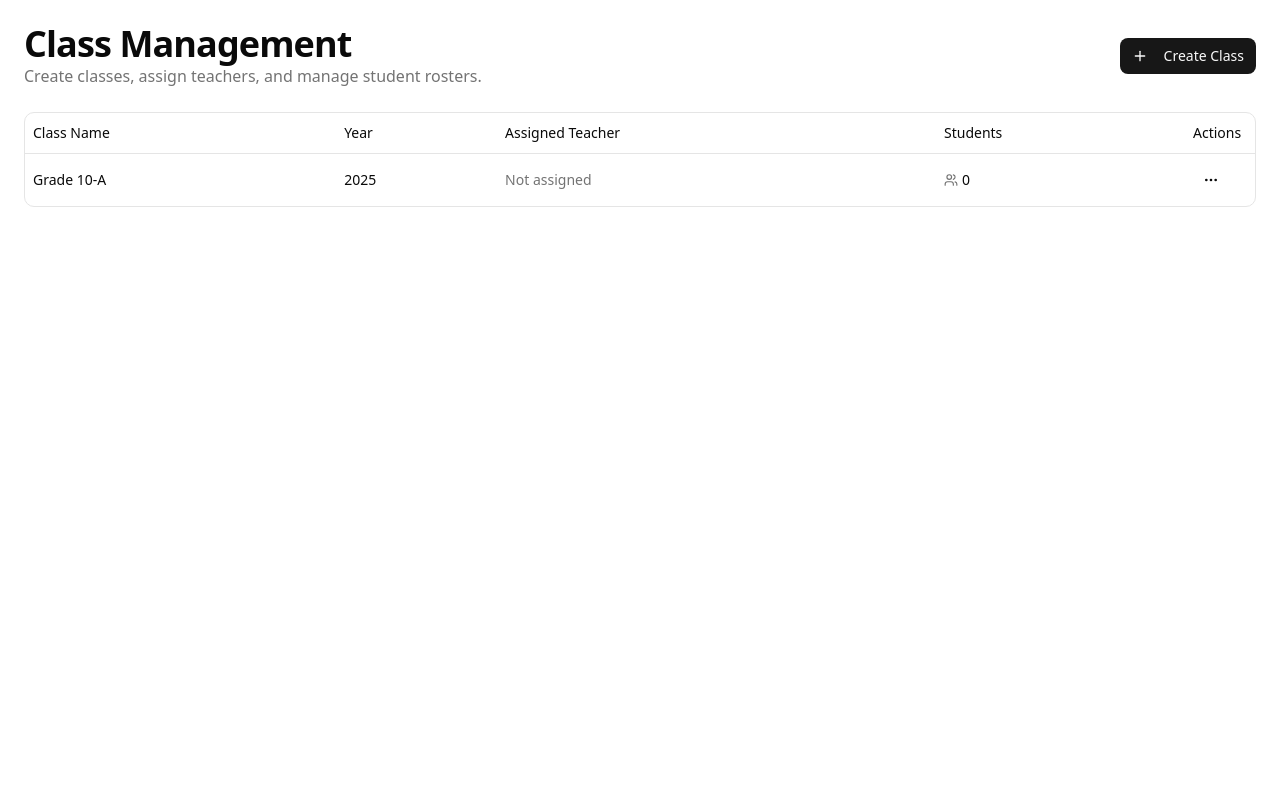
Subject Teachers modal — assignments fetch fails › shows an inline error message instead of the empty state
The image size is (1280, 800).
Expected: the text "Grade 10-A" is shown, [25,153,336,206]
Step 1. Click the button named "open menu" → (1211, 180), box [1193,162,1229,198]
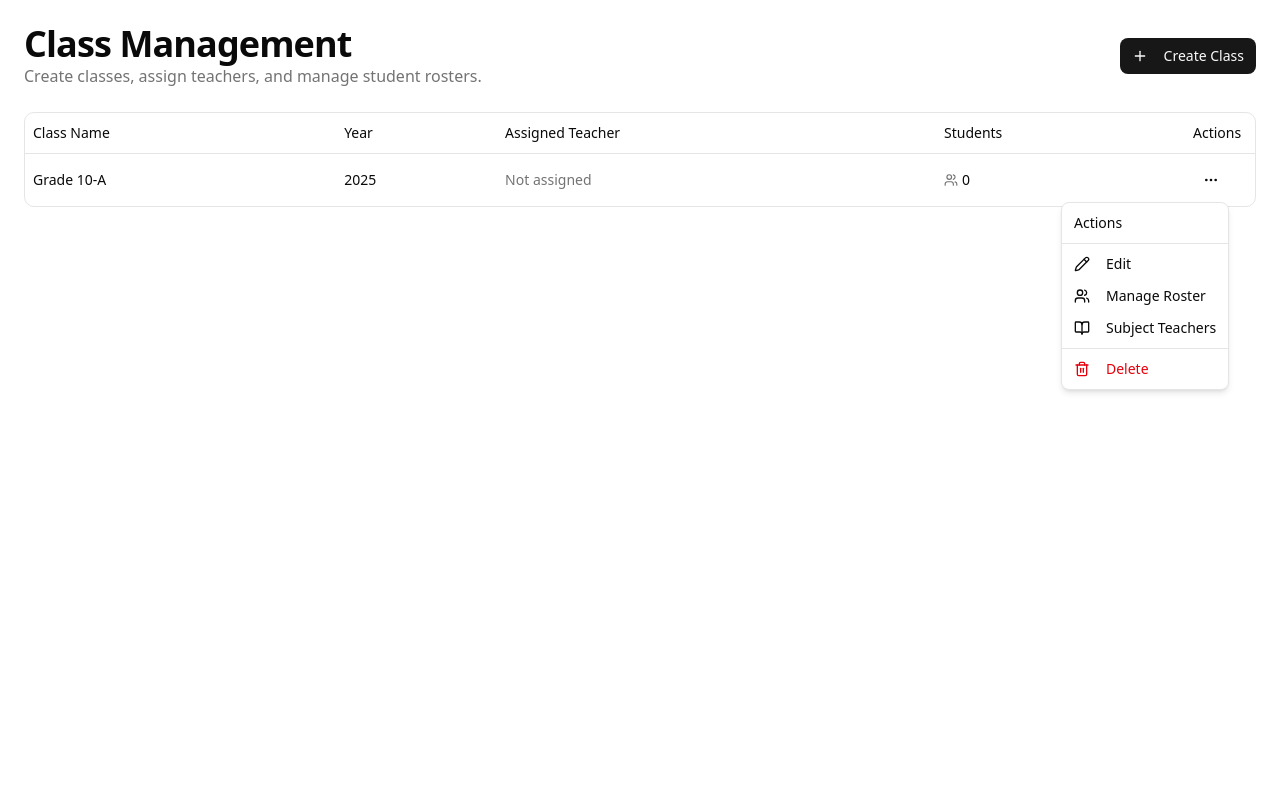
Step 2. Click the menu item "Subject Teachers" → (1145, 328), box [1074,318,1216,337]
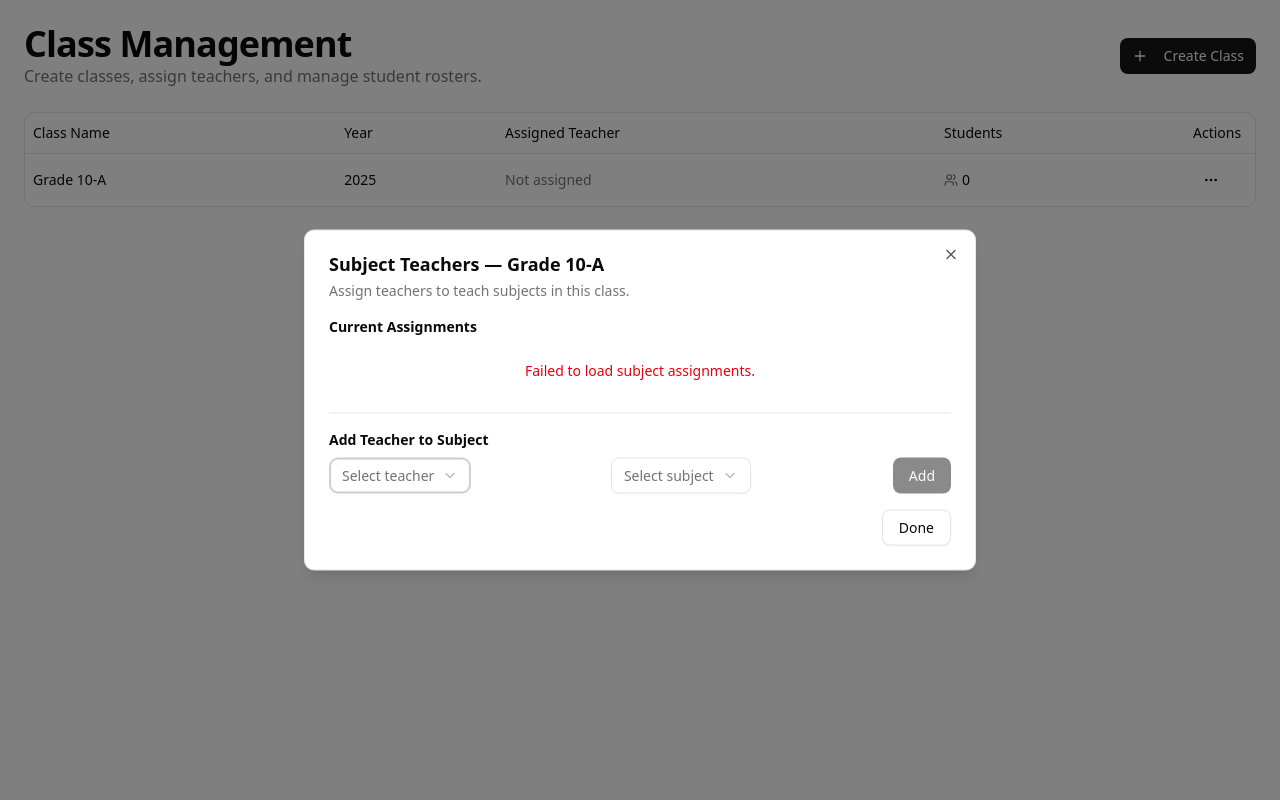
Result: the heading "Subject Teachers — Grade 10-A" is shown at [329,252,604,276]
Result: the text "Failed to load subject assignments." is shown at [525,360,755,380]
